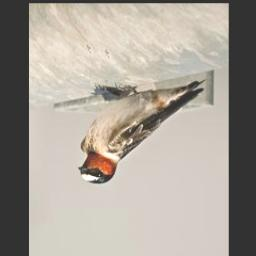Swallow: (76, 80, 208, 187)
